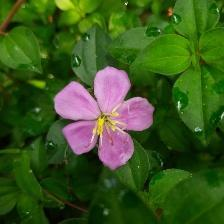malabar melastome: (50, 66, 156, 174)
